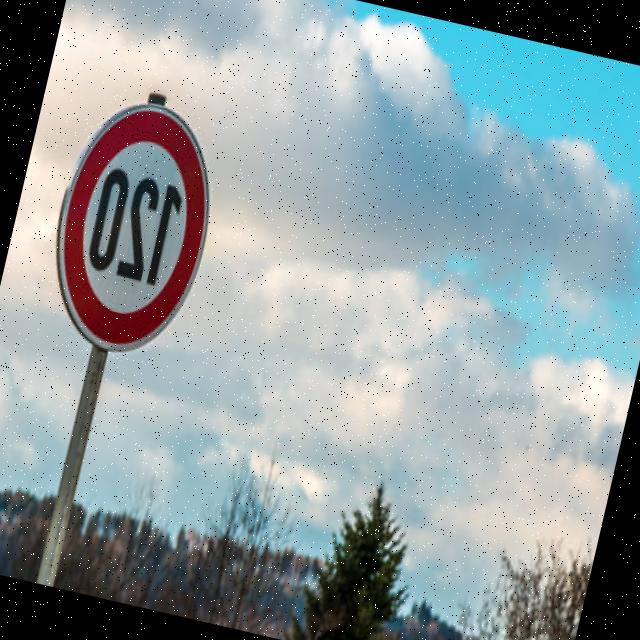speed_limit_120: (28, 79, 242, 370)
